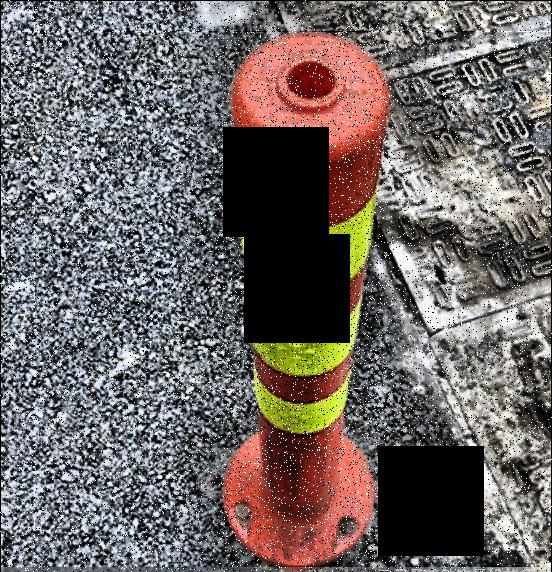bench: (218, 19, 395, 564)
